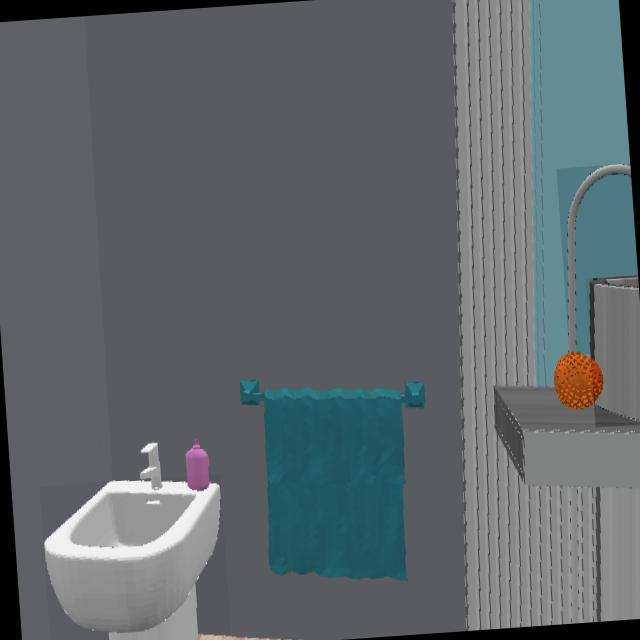washbasin: (43, 481, 221, 640), (567, 165, 631, 354), (588, 276, 640, 423)
